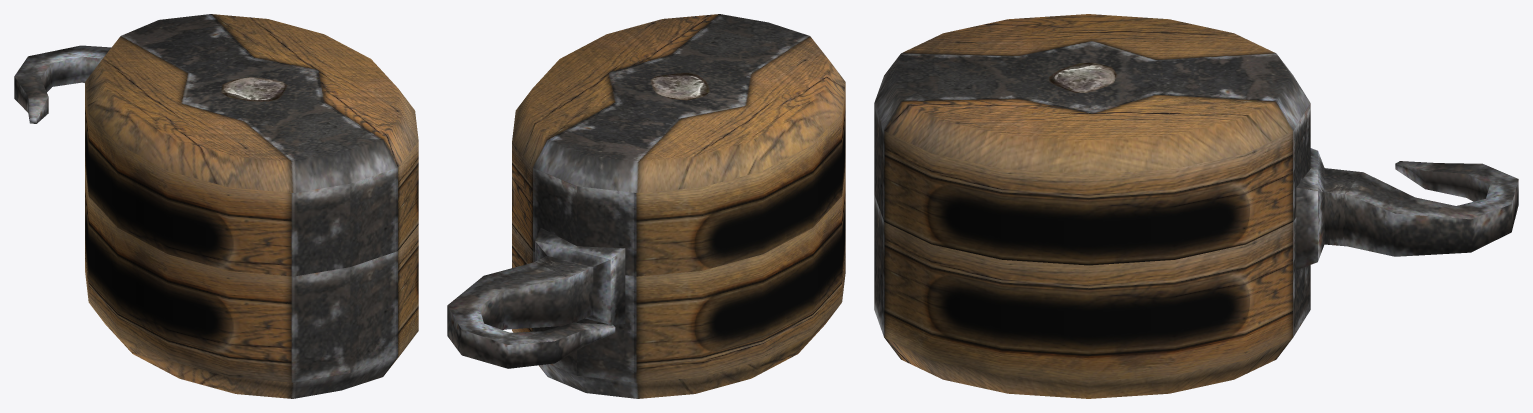
File: Pulley 4 Hook.fbx
The picture shows the model from 3 angles, left to right: view 1: azimuth 30°, elevation 25°; view 2: azimuth 150°, elevation 25°; view 3: azimuth 270°, elevation 25°; orthographic projection. The views are drawn at different scales.
Visible parts, largest first — view 1: reinforced block double; view 2: reinforced block double; view 3: reinforced block double.
Part boxes in pixels (bbox=[...]): reinforced block double: bbox=[14, 14, 418, 398]; reinforced block double: bbox=[447, 14, 845, 398]; reinforced block double: bbox=[874, 14, 1518, 398].
Bounding box in the file's own units: 24.27 × 46.34 × 20.48.
1 material, 1 textured.
